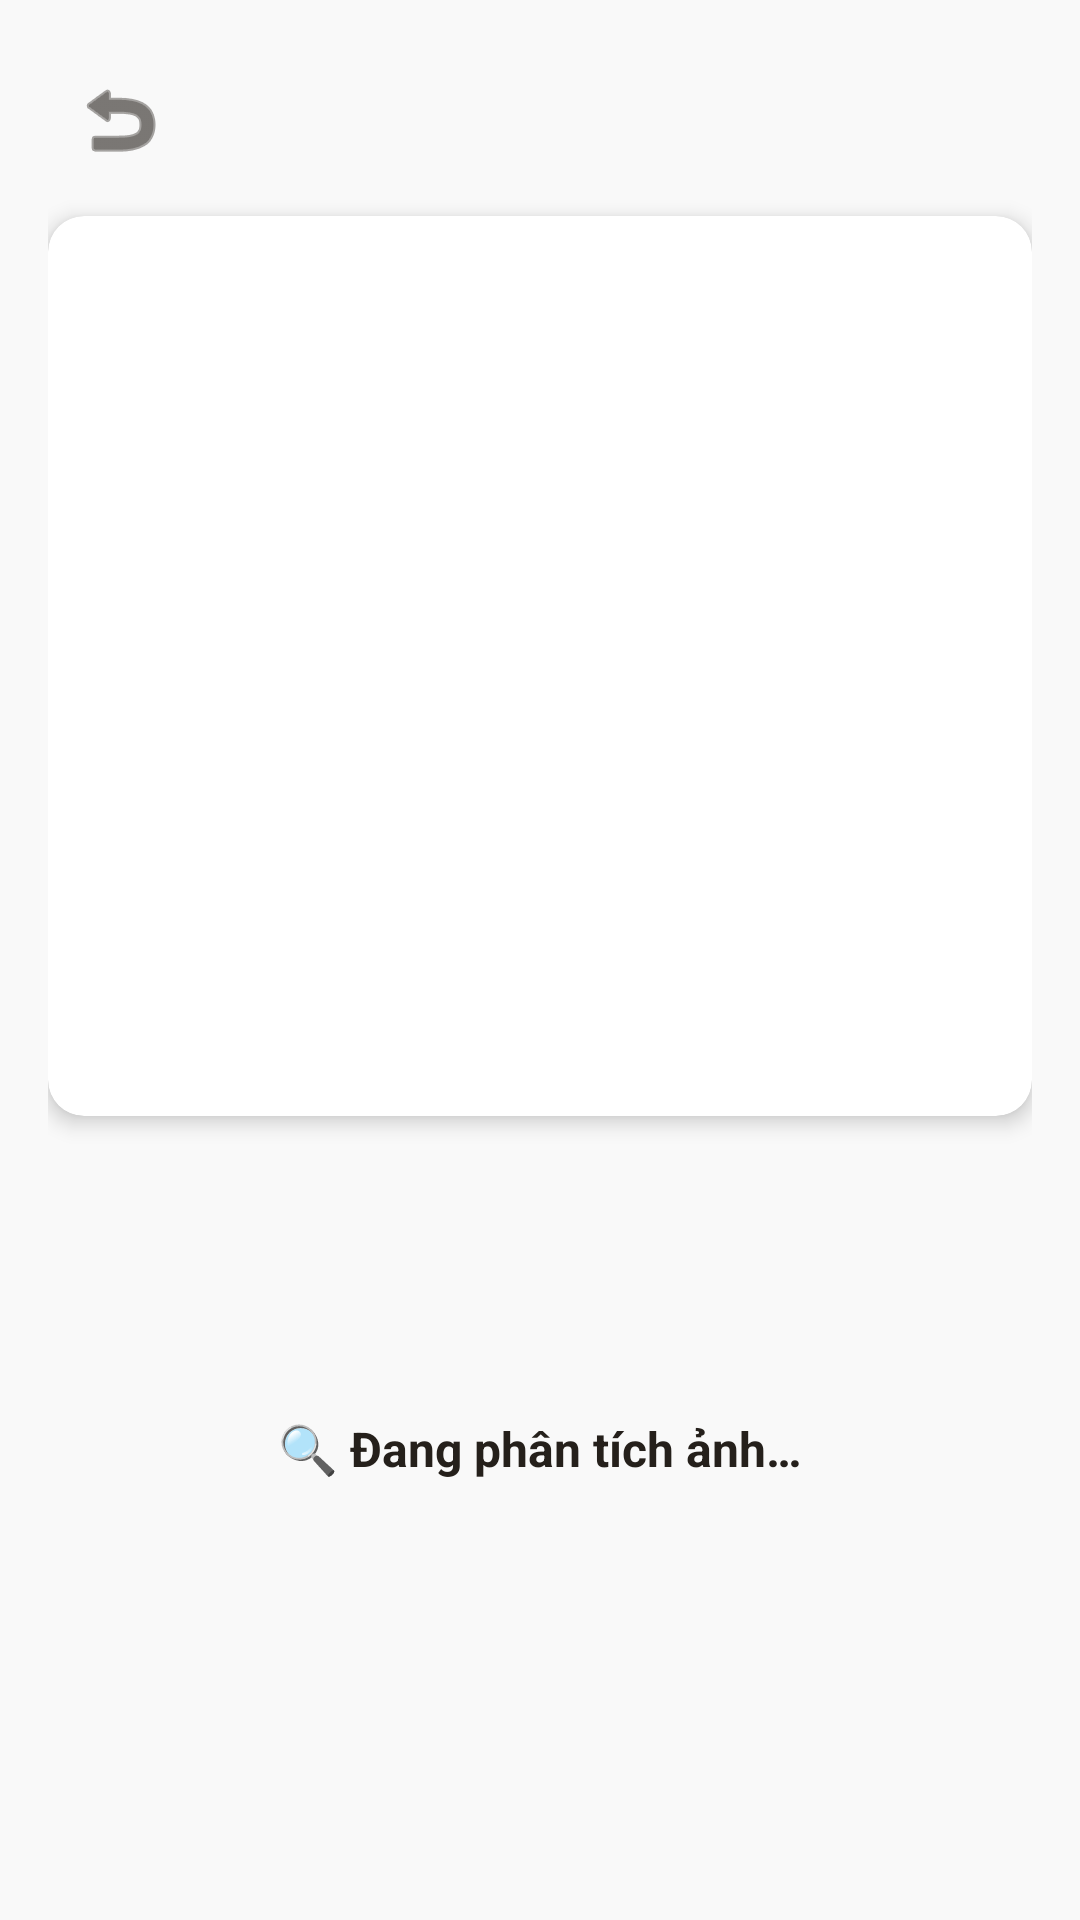

Where to tap for icons on this 1080 x 1920 app screen, as (x=x, y=y):
Quay lại: (x=121, y=120)
